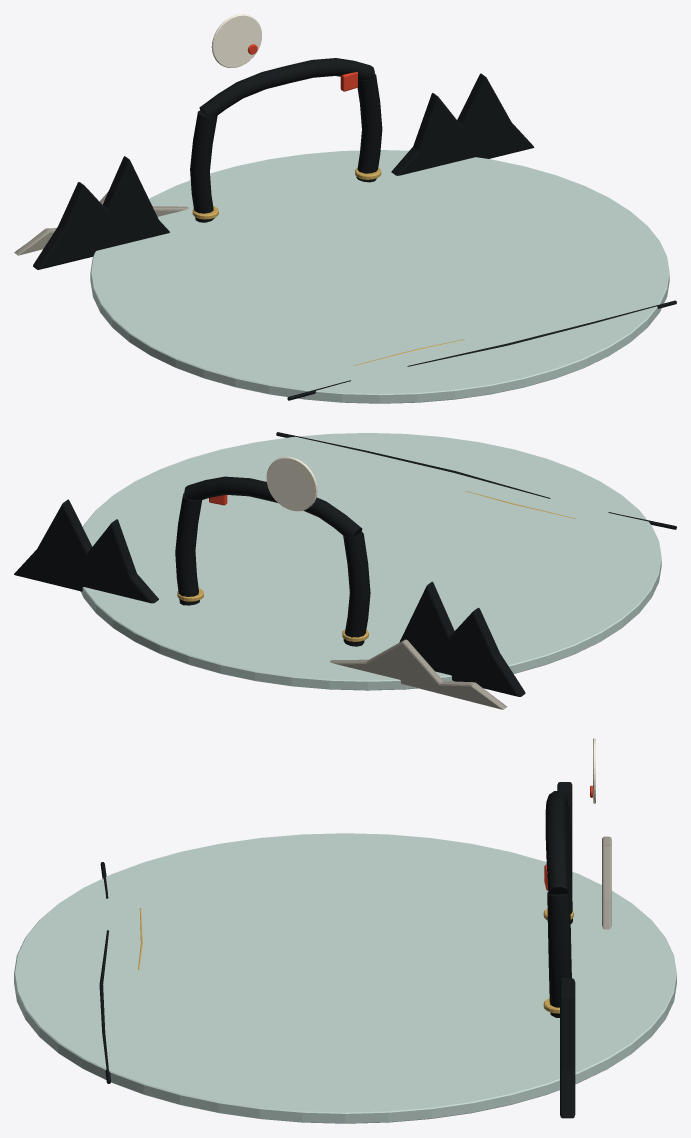
Rendered from environment-mobile.glb.
The picture shows the model from 3 angles, top to bottom: view 1: azimuth 30°, elevation 25°; view 2: azimuth 150°, elevation 25°; view 3: azimuth 270°, elevation 25°; orthographic projection. The views are drawn at different scales.
Parts seen in each view (by area): view 1: V3 jade ink pool, V3 left ink cliff, V3 right ink cliff, V3 sweeping dragon gate, V3 left brush gate, V3 small paper moon, V3 right brush gate, V3 foreground current A, V3 far paper ridge; view 2: V3 jade ink pool, V3 right ink cliff, V3 left ink cliff, V3 far paper ridge, V3 sweeping dragon gate, V3 left brush gate, V3 small paper moon, V3 right brush gate, V3 foreground current A; view 3: V3 jade ink pool, V3 right brush gate, V3 right ink cliff, V3 sweeping dragon gate, V3 far paper ridge, V3 foreground current A.
Boxes of the visible parts, x1,y1,x2,y2 form: V3 jade ink pool: (90, 150, 669, 403); V3 left ink cliff: (33, 156, 169, 269); V3 right ink cliff: (391, 73, 534, 175); V3 sweeping dragon gate: (199, 58, 374, 117); V3 left brush gate: (190, 110, 217, 222); V3 small paper moon: (211, 14, 261, 67); V3 right brush gate: (356, 73, 382, 182); V3 foreground current A: (287, 300, 676, 400); V3 far paper ridge: (14, 191, 188, 255); V3 jade ink pool: (80, 433, 661, 690); V3 right ink cliff: (14, 499, 158, 603); V3 left ink cliff: (399, 581, 525, 696); V3 far paper ridge: (330, 639, 506, 709); V3 sweeping dragon gate: (184, 476, 362, 537); V3 left brush gate: (343, 531, 370, 646); V3 small paper moon: (266, 456, 317, 511); V3 right brush gate: (175, 493, 202, 605); V3 foreground current A: (276, 432, 676, 529); V3 jade ink pool: (14, 833, 676, 1123); V3 right brush gate: (547, 891, 571, 1017); V3 right ink cliff: (560, 978, 575, 1118); V3 sweeping dragon gate: (545, 791, 568, 894); V3 far paper ridge: (602, 836, 611, 929); V3 foreground current A: (99, 862, 110, 1083).
Size of the model in its own units: 9.64 by 3.59 by 9.64.
